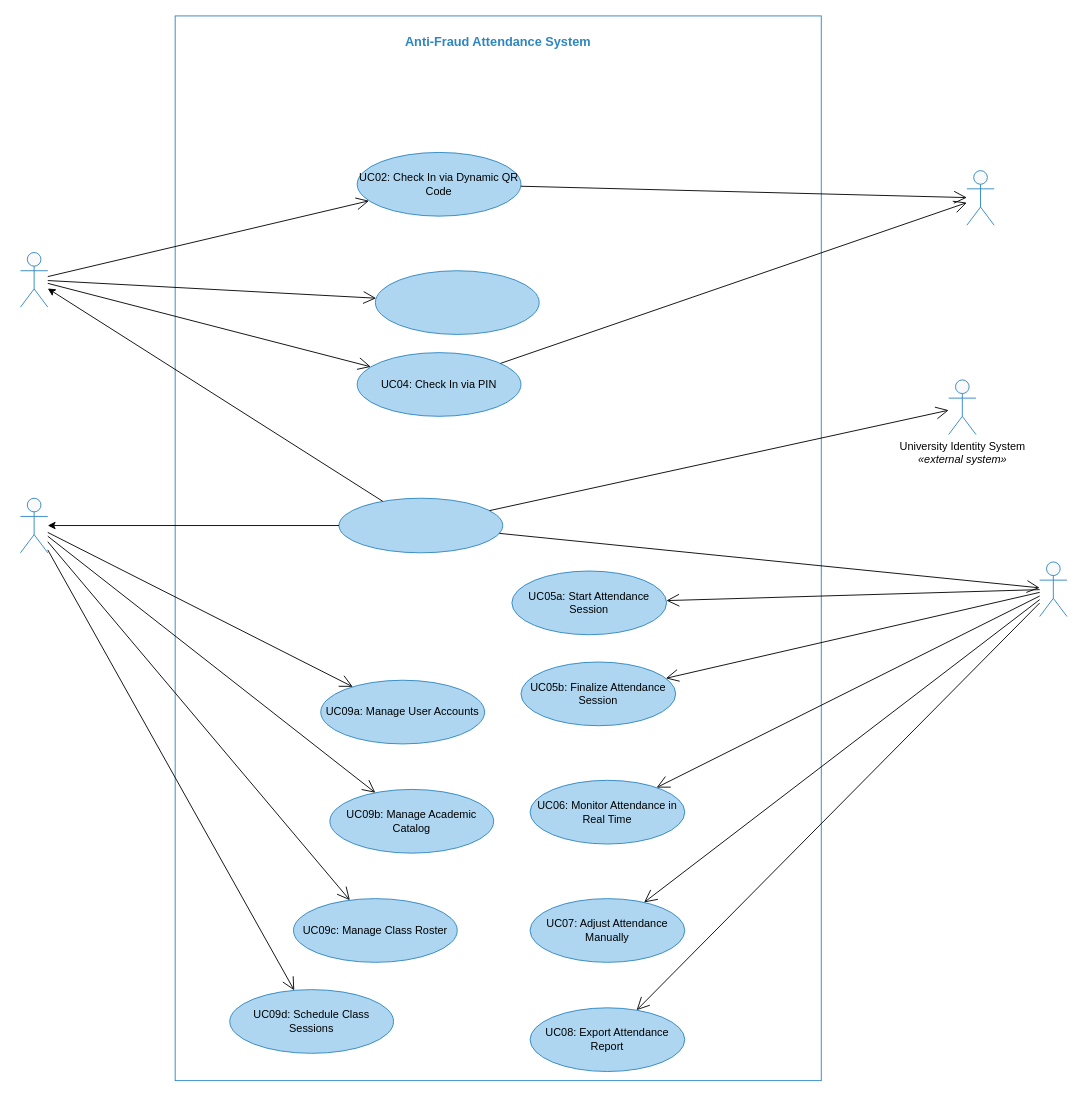
Some shapes in this 1089 by 1097 pixel diagram are drawn without their labels. The centre of each missing label's shape, as x and y in pixels:
"Admin" goes at (34,525).
"Lecturer" goes at (1053,589).
"Mobile Device Hardware «external I/O device»" goes at (980,197).
"Student" goes at (34,279).
"UC01: Authenticate User" goes at (420,525).
"UC03: View Personal Attendance History" goes at (456,302).
